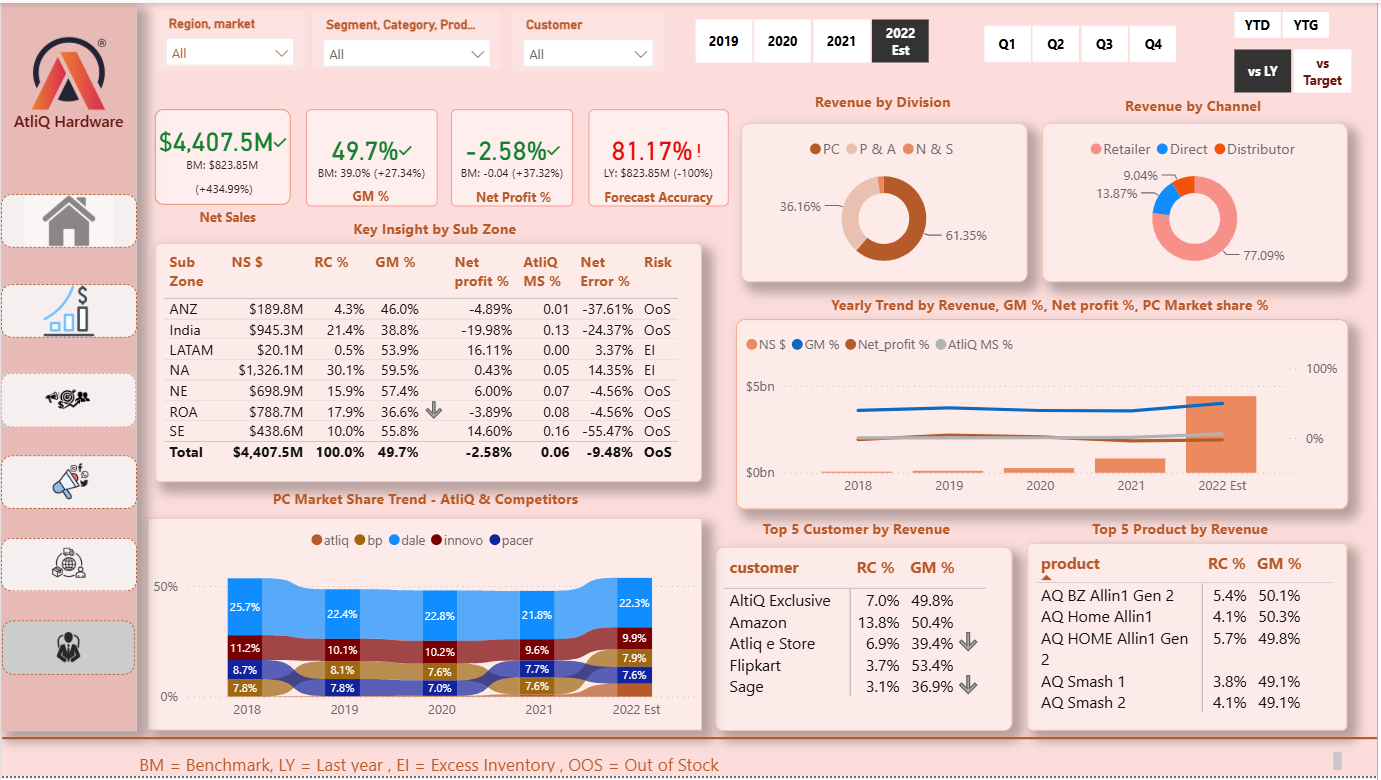

The dashboard page shown, as its layout file describes it:
{"tool":"powerbi","page":{"name":"Executive View","canvas":[1280,720],"ordinal":5},"visuals":[{"type":"pivotTable","fields":{"Rows":["dim_customer.customer"],"Values":["Key Measures.RC %","Key Measures.GM %"]},"box":[664.2,506.3,277.2,171.5],"z":0},{"type":"textbox","box":[167.4,194.9,472,32.9],"z":1000},{"type":"kpi","fields":{"Indicator":["Key Measures.NS $"],"TrendLine":["dim_date.fiscal_year"],"Goal":["Key Measures.NS BM $"]},"box":[142.7,98.8,126.2,89.2],"z":2000},{"type":"textbox","box":[163.3,185.2,96.1,30.2],"z":3000},{"type":"kpi","fields":{"TrendLine":["dim_date.fiscal_year"],"Goal":["Key Measures.GM % BM"],"Indicator":["Key Measures.GM %"]},"box":[284,98.8,122.1,90.6],"z":4000},{"type":"textbox","box":[290.9,164.7,109.8,30.2],"z":5000},{"type":"kpi","fields":{"TrendLine":["dim_date.fiscal_year"],"Goal":["Key Measures.NP % BM"],"Indicator":["Key Measures.Net_profit %"]},"box":[418.5,98.8,113.9,90.6],"z":6000},{"type":"textbox","box":[424,166,108.4,30.2],"z":7000},{"type":"textbox","box":[123.5,691.6,1129.3,28.8],"z":8000},{"type":"cardVisual","fields":{"Data":["Key Measures.BM Message"]},"box":[135.8,52.1,491.3,61.7],"z":9000},{"type":"kpi","fields":{"TrendLine":["dim_date.fiscal_year"],"Goal":["Key Measures.NS $ LY"],"Indicator":["Key Measures.forecast accuracy %"]},"box":[546.1,98.8,130.4,90.6],"z":10000},{"type":"textbox","box":[554.4,166,113.9,28.8],"z":11000},{"type":"donutChart","fields":{"Category":["dim_product.division"],"Y":["Key Measures.NS $"]},"box":[688.9,111.1,266.2,148.2],"z":12000},{"type":"textbox","box":[703.9,78.2,233.3,32.9],"z":13000},{"type":"textbox","box":[989.4,81,238.8,32.9],"z":14000},{"type":"donutChart","fields":{"Category":["dim_customer.channel"],"Y":["Key Measures.NS $"]},"box":[968.8,111.1,284,148.2],"z":15000},{"type":"tableEx","fields":{"Values":["sub_zone.sub_zone","Key Measures.NS $","Key Measures.RC %","Key Measures.GM %","Key Measures.Net_profit %","Key Measures.AtliQ MS %","Key Measures.Net Error %","Key Measures.Risk"]},"box":[142.7,223.7,509.1,222.3],"z":16000},{"type":"lineStackedColumnComboChart","fields":{"Category":["fiscal_year.fy_desc"],"Y2":["Key Measures.GM %","Key Measures.Net_profit %","Key Measures.AtliQ MS %"],"Y":["Key Measures.NS $"]},"box":[683.4,293.7,569.5,177],"z":17000},{"type":"textbox","box":[703.9,266.2,544.8,31.6],"z":18000},{"type":"ribbonChart","fields":{"Category":["fiscal_year.fy_desc"],"Y":["Key Measures.Market share %"],"Series":["marketshare.Manufacturer"]},"box":[135.8,478.9,516,197.6],"z":19000},{"type":"pivotTable","fields":{"Rows":["dim_product.product"],"Values":["Key Measures.RC %","Key Measures.GM %"]},"box":[955.1,502.2,297.8,174.3],"z":20000},{"type":"textbox","box":[664.2,474.8,263.5,32.9],"z":21000},{"type":"textbox","box":[964.7,474.8,263.5,32.9],"z":22000},{"type":"textbox","box":[142.7,446,503.6,28.8],"z":23000},{"type":"shape","box":[0,0,126.2,677.9],"z":24000},{"type":"image","box":[19.2,30.2,87.8,70],"z":25000},{"type":"textbox","box":[1.4,94.7,123.5,43.9],"z":26000},{"type":"image","box":[0,178.4,126.2,49.4],"z":27000},{"type":"image","box":[0,262.1,126.2,49.4],"z":28000},{"type":"image","box":[0,344.7,125.7,50],"z":29000},{"type":"image","box":[0,421.3,126.2,49.4],"z":30000},{"type":"image","box":[0,498.1,126.2,49.4],"z":31000},{"type":"image","box":[1.4,575,123.5,50],"z":32000},{"type":"slicer","fields":{"Values":["fiscal_year.fy_desc"]},"box":[620.2,8.2,267.6,52.1],"z":33000},{"type":"slicer","fields":{"Values":["dim_date.Quarter"]},"box":[887.8,13.7,229.2,48],"z":34000},{"type":"slicer","fields":{"Values":["dim_date.ytd_ytg"]},"box":[1121.1,1.4,138.6,34.3],"z":35000},{"type":"slicer","fields":{"Values":["dim_product.segment","dim_product.category","dim_product.product"]},"box":[289.5,8.2,175.6,53.5],"z":36000},{"type":"slicer","fields":{"Values":["dim_market.region","dim_market.market"]},"box":[142.7,6.9,140,56.3],"z":37000},{"type":"slicer","fields":{"Values":["dim_customer.customer"]},"box":[476.2,8.2,141.3,54.9],"z":38000},{"type":"slicer","fields":{"Values":["Set BM.Benchmark"]},"box":[1121.1,35.7,159.2,50.8],"z":39000},{"type":"shape","box":[1.1,675.1,1278.9,16.5],"z":40000}]}

Visuals, with their boxes in screenshot pixels (x1, y1, x2, y2), scaled from the page's 1280x720 canvas onto the 1381x780 screenshot:
pivotTable - dim_customer.customer x Key Measures.RC %: [717,548,1016,734]
textbox: [181,211,690,247]
kpi - Key Measures.NS $ x dim_date.fiscal_year: [154,107,290,204]
textbox: [176,201,280,233]
kpi - dim_date.fiscal_year x Key Measures.GM % BM: [306,107,438,205]
textbox: [314,178,432,211]
kpi - dim_date.fiscal_year x Key Measures.NP % BM: [452,107,574,205]
textbox: [457,180,574,213]
textbox: [133,749,1352,779]
cardVisual - Key Measures.BM Message: [147,56,677,123]
kpi - dim_date.fiscal_year x Key Measures.NS $ LY: [589,107,730,205]
textbox: [598,180,721,211]
donutChart - dim_product.division x Key Measures.NS $: [743,120,1030,281]
textbox: [759,85,1011,120]
textbox: [1067,88,1325,123]
donutChart - dim_customer.channel x Key Measures.NS $: [1045,120,1352,281]
tableEx - sub_zone.sub_zone x Key Measures.NS $: [154,242,703,483]
lineStackedColumnComboChart - fiscal_year.fy_desc x Key Measures.GM %: [737,318,1352,510]
textbox: [759,288,1347,323]
ribbonChart - fiscal_year.fy_desc x Key Measures.Market share %: [147,519,703,733]
pivotTable - dim_product.product x Key Measures.RC %: [1030,544,1352,733]
textbox: [717,514,1001,550]
textbox: [1041,514,1325,550]
textbox: [154,483,697,514]
shape: [0,0,136,734]
image: [21,33,115,109]
textbox: [2,103,135,150]
image: [0,193,136,247]
image: [0,284,136,337]
image: [0,373,136,428]
image: [0,456,136,510]
image: [0,540,136,593]
image: [2,623,135,677]
slicer - fiscal_year.fy_desc: [669,9,958,65]
slicer - dim_date.Quarter: [958,15,1205,67]
slicer - dim_date.ytd_ytg: [1210,2,1359,39]
slicer - dim_product.segment x dim_product.category: [312,9,502,67]
slicer - dim_market.region x dim_market.market: [154,7,305,68]
slicer - dim_customer.customer: [514,9,666,68]
slicer - Set BM.Benchmark: [1210,39,1380,94]
shape: [1,731,1380,749]
